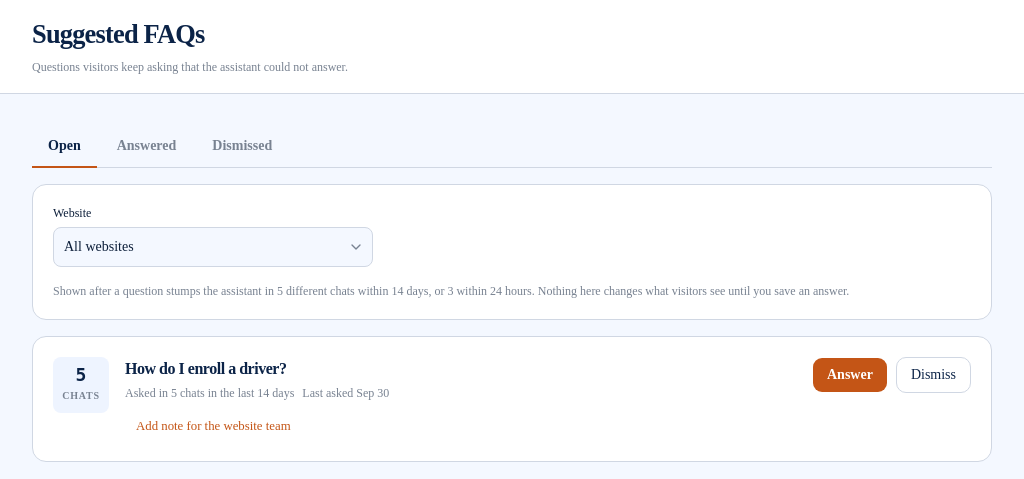
Test: suggested FAQs views › lists answered questions and how they were answered
Check: the heading "How do I enroll a driver?" is shown, box [125, 357, 286, 381]
Click the tab "Answered" at (146, 147), box [101, 126, 192, 168]
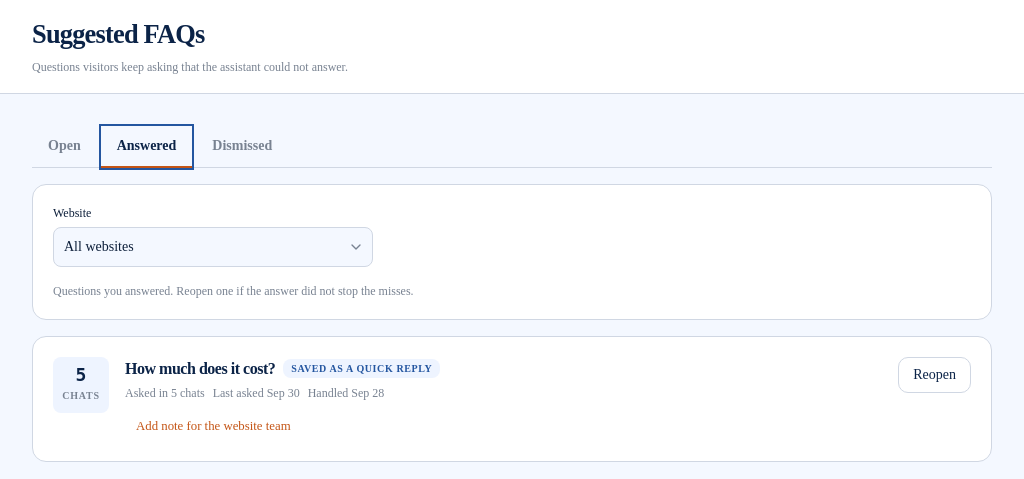
Check: the heading "How much does it cost?" is shown, box [125, 357, 275, 381]
Check: the text "Saved as a quick reply" is shown, box [283, 360, 440, 378]
